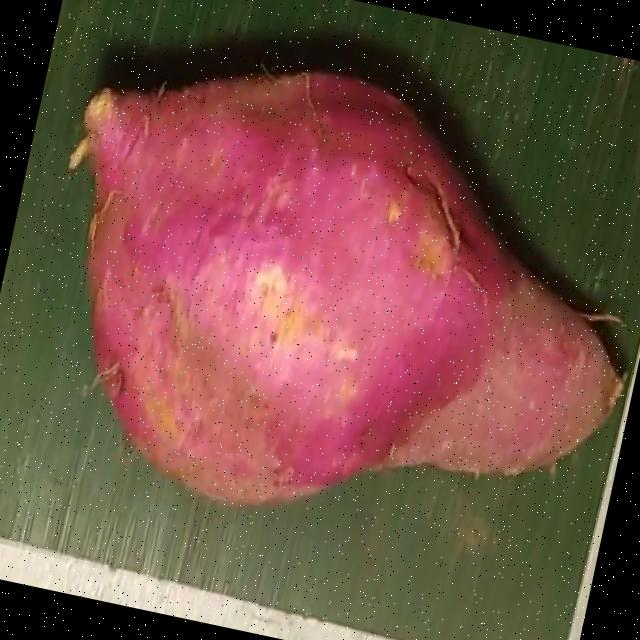Sweet Potato: (66, 68, 622, 507)
